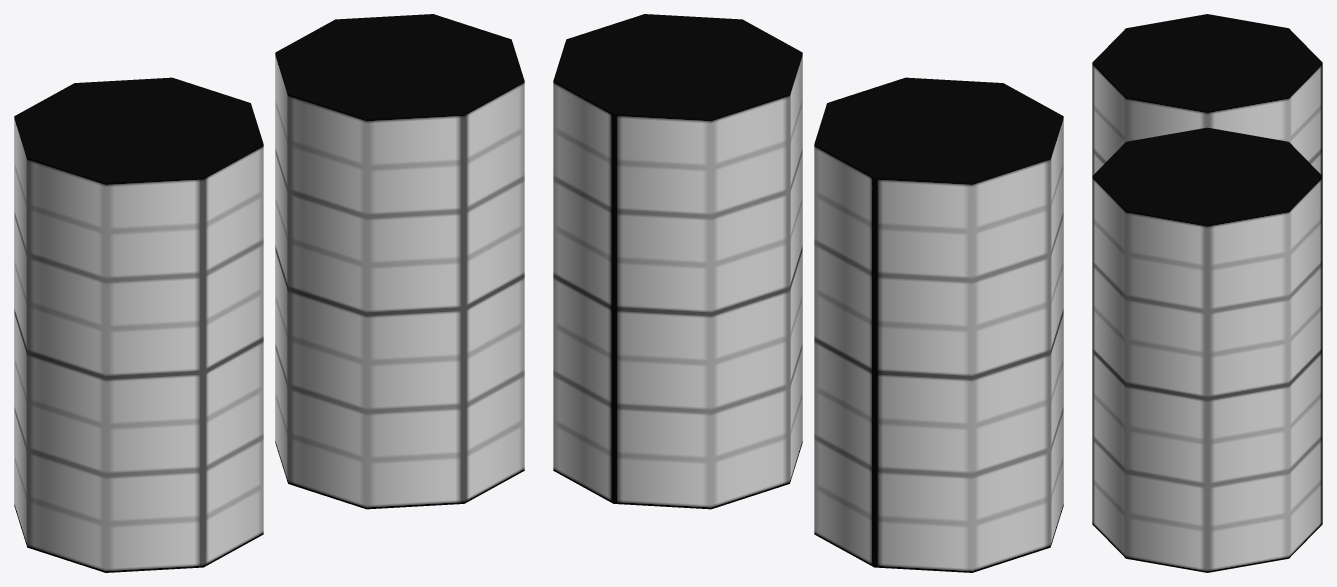
The model's file is pipe-3.fbx.
The picture shows the model from 3 angles, left to right: view 1: azimuth 30°, elevation 25°; view 2: azimuth 150°, elevation 25°; view 3: azimuth 270°, elevation 25°; orthographic projection. The views are drawn at different scales.
Visible parts, largest first — view 1: Object, Zplus; view 2: Object, Zplus; view 3: Object, Zplus.
Part boxes in pixels (x1,y1,x2,y2): Object: [14, 53, 524, 572]; Zplus: [14, 14, 524, 182]; Object: [553, 53, 1063, 572]; Zplus: [553, 14, 1063, 182]; Object: [1092, 63, 1322, 572]; Zplus: [1092, 14, 1322, 224].
Size of the model in its own units: 65 by 50 by 30.
